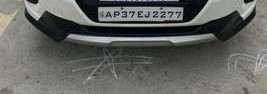AP37EJ2277: (98, 7, 183, 22)
